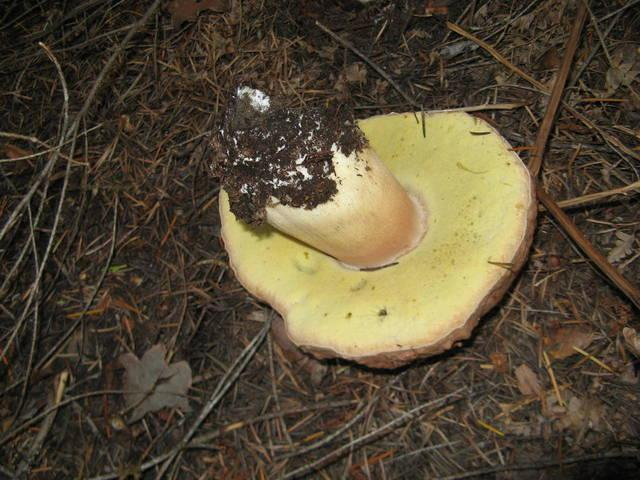Edible Mushroom: (211, 85, 538, 370)
